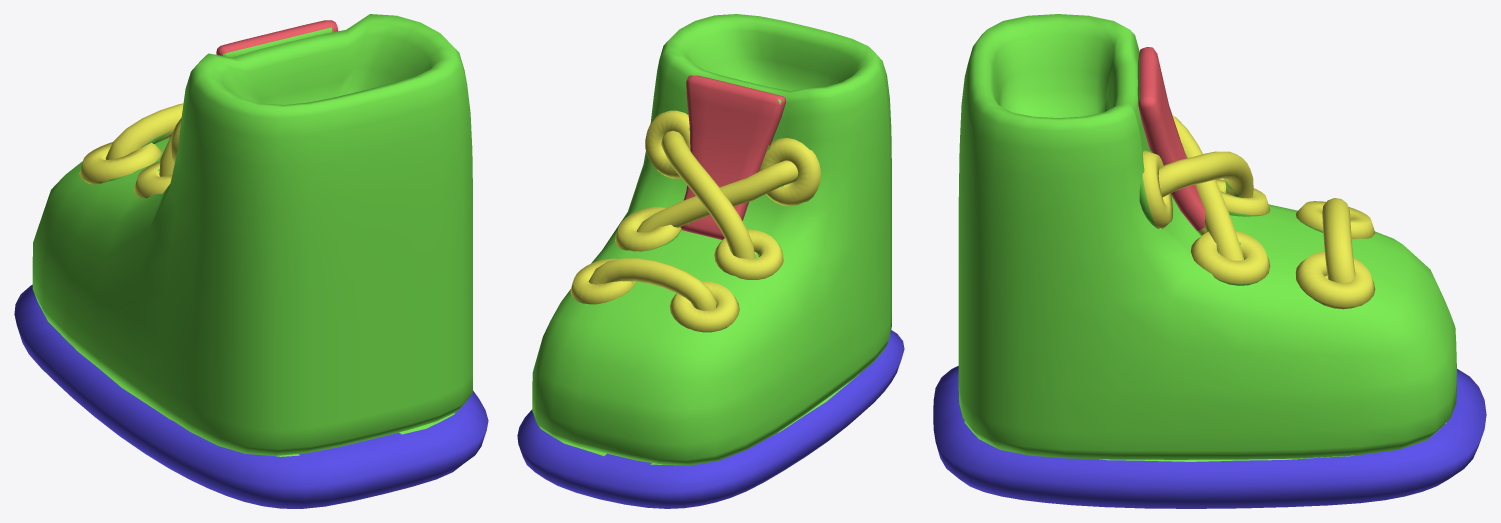
Rendered from updatedshoe.glb.
3 views of the same model, side by side, from view 1: azimuth 30°, elevation 25°; view 2: azimuth 150°, elevation 25°; view 3: azimuth 270°, elevation 25° (orthographic). The views are drawn at different scales.
Parts seen in each view (by area): view 1: Object_2; view 2: Object_2; view 3: Object_2.
Boxes of the visible parts, x1=… form: Object_2: x1=14, y1=14, x2=488, y2=508; Object_2: x1=517, y1=14, x2=904, y2=508; Object_2: x1=933, y1=14, x2=1486, y2=508.
Size of the model in its own units: 2.35 by 2.92 by 3.82.
